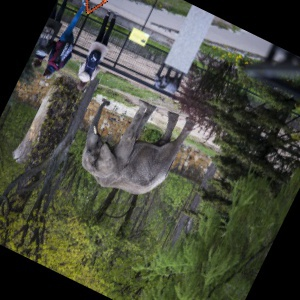triangle: (80, 1, 111, 21)
